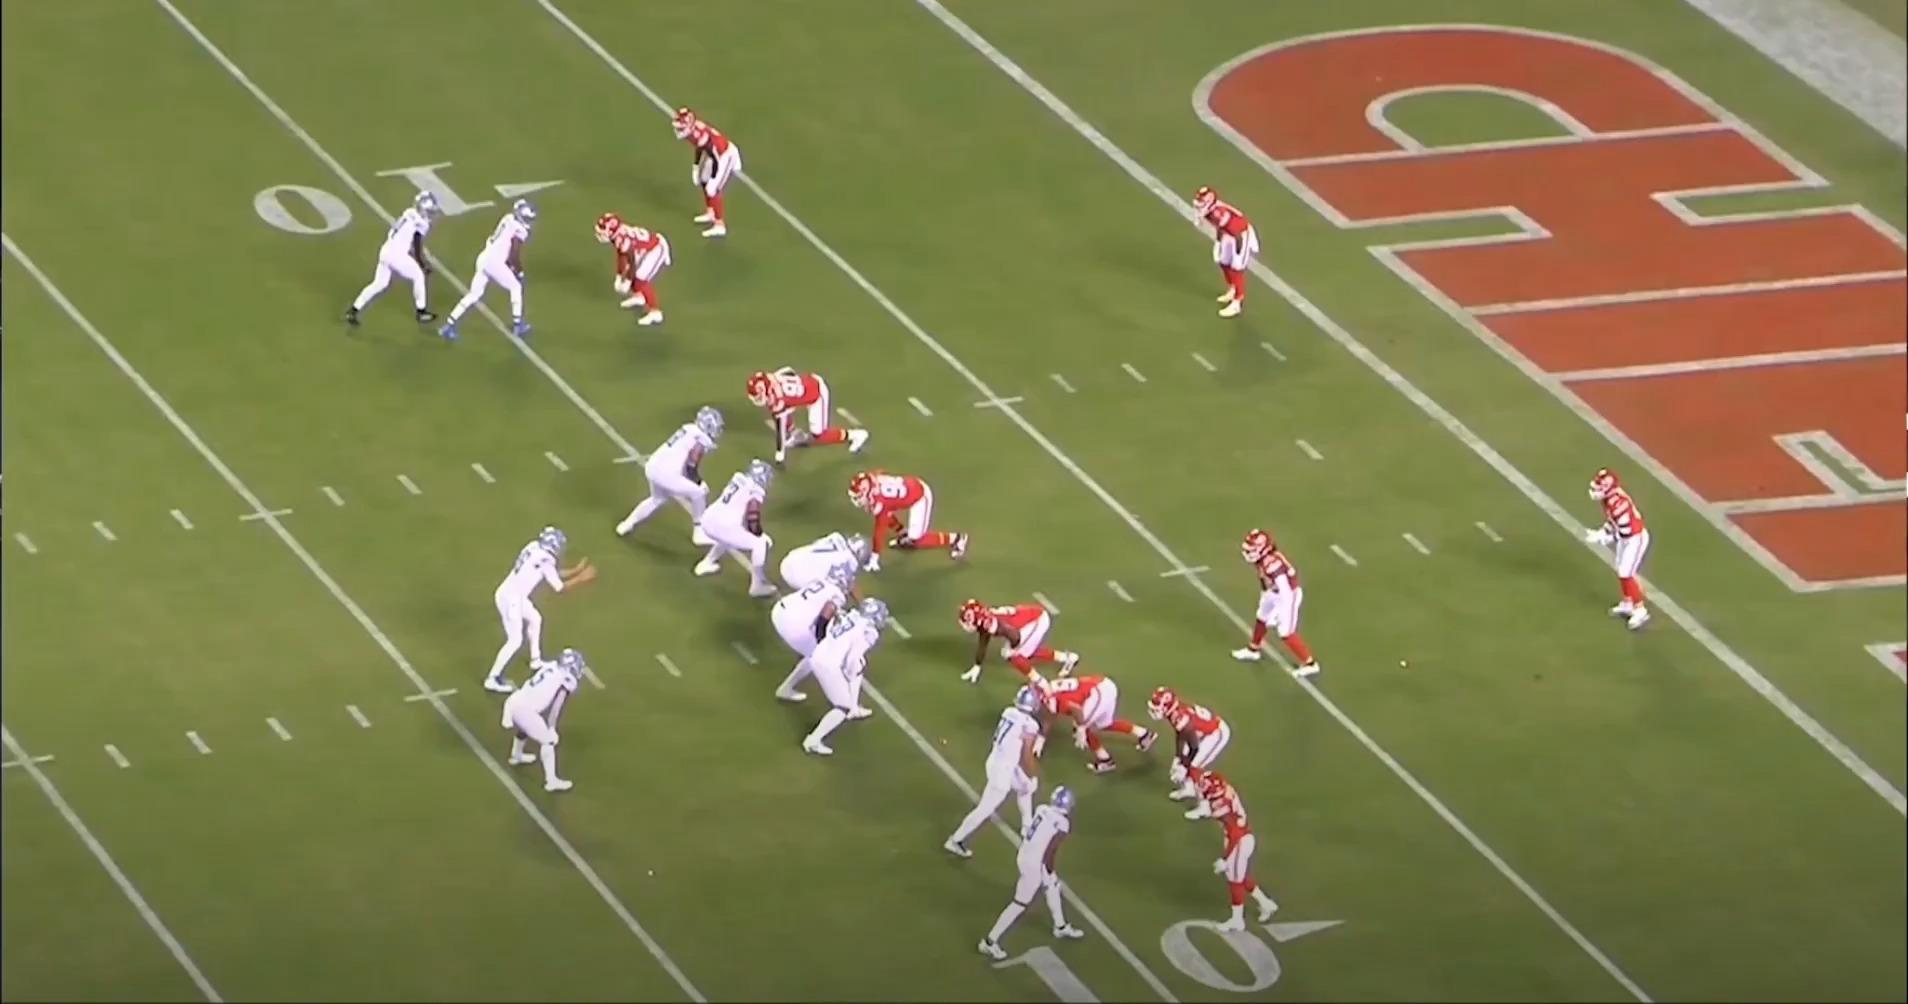defense: (1238, 523, 1330, 682), (1023, 668, 1158, 776), (1201, 767, 1287, 935), (853, 473, 978, 573), (752, 368, 880, 465), (1590, 468, 1661, 637), (1152, 689, 1239, 825), (954, 599, 1079, 691), (666, 106, 745, 245), (1186, 182, 1258, 320), (597, 207, 678, 328)
oline: (615, 407, 728, 551), (799, 600, 891, 761), (771, 563, 859, 704), (693, 463, 779, 599), (777, 534, 873, 619)
qb: (491, 525, 584, 696)
skill: (986, 785, 1100, 967), (948, 680, 1056, 863), (336, 190, 443, 334), (438, 199, 540, 349), (509, 639, 598, 791)
